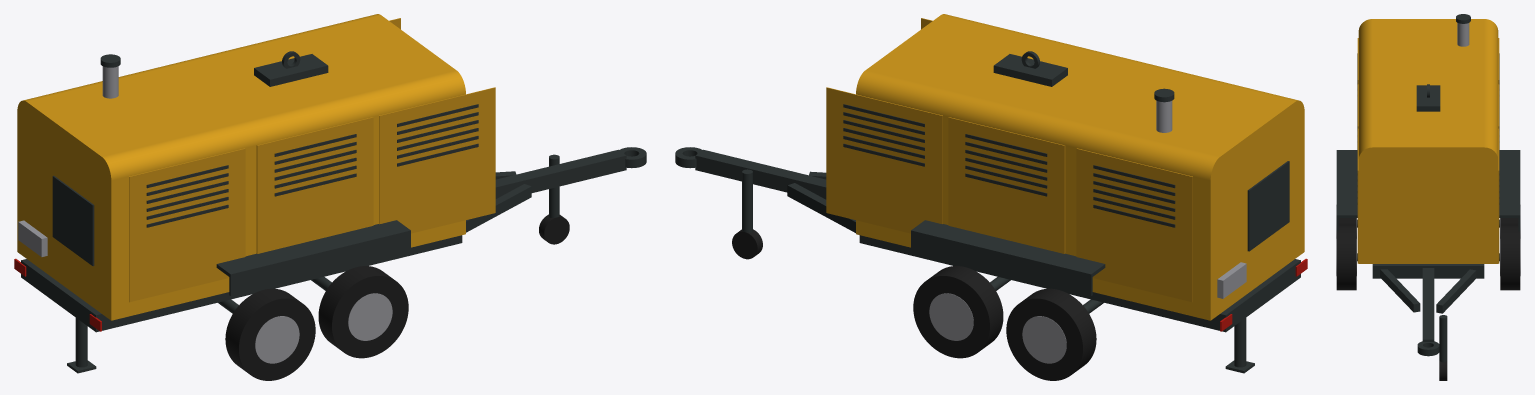
The model's file is Towable_Air_Compressor.glb.
3 views of the same model, side by side, from view 1: azimuth 30°, elevation 25°; view 2: azimuth 150°, elevation 25°; view 3: azimuth 270°, elevation 25° (orthographic). The views are drawn at different scales.
Parts seen in each view (by area): view 1: canopy_9ad2ca, door_-1800_-1_c5e167, door_350_-1_ef9e7f, canopy_e34bd9, door_-700_-1_3e2cd1, canopy_ecefa7, canopy, fender_side_-1_87e7a3, tyre_1_-1_74e7e3, tyre_0_-1_12d6b6, control_panel_ef3d35, fender_-1_4d3c1a (+14 smaller); view 2: canopy_9ad2ca, door_-1800_1_36dee7, door_350_1_d572ef, canopy_e34bd9, door_-700_1_5882df, canopy_47ccf6, canopy_f7cfbc, fender_side_1_9698cc, tyre_1_1_3bae42, tyre_0_1_a9bd93, fender_1_c6bed4, control_panel_ef3d35 (+15 smaller); view 3: canopy_adef05, canopy_9ad2ca, canopy_ecefa7, canopy_47ccf6, tyre_1_-1_d40cda, tyre_1_1_9904ce, fender_1_c6bed4, fender_-1_4d3c1a, chassis_497a60, drawbar_48082b, roof_lifting_frame_e8d679, jockey_post_de928b (+11 smaller).
Part boxes in pixels (x1=…): canopy_9ad2ca: x1=27, y1=15, x2=455, y2=156; door_-1800_-1_c5e167: x1=129, y1=148, x2=245, y2=302; door_350_-1_ef9e7f: x1=379, y1=87, x2=495, y2=233; canopy_e34bd9: x1=17, y1=100, x2=111, y2=320; door_-700_-1_3e2cd1: x1=257, y1=117, x2=373, y2=253; canopy_ecefa7: x1=102, y1=70, x2=465, y2=180; canopy: x1=111, y1=115, x2=465, y2=320; fender_side_-1_87e7a3: x1=230, y1=230, x2=410, y2=296; tyre_1_-1_74e7e3: x1=332, y1=276, x2=408, y2=358; tyre_0_-1_12d6b6: x1=239, y1=298, x2=315, y2=380; control_panel_ef3d35: x1=52, y1=176, x2=92, y2=265; fender_-1_4d3c1a: x1=217, y1=220, x2=410, y2=273; canopy_9ad2ca: x1=866, y1=15, x2=1294, y2=156; door_-1800_1_36dee7: x1=1076, y1=148, x2=1192, y2=302; door_350_1_d572ef: x1=826, y1=87, x2=942, y2=233; canopy_e34bd9: x1=1210, y1=100, x2=1304, y2=320; door_-700_1_5882df: x1=948, y1=117, x2=1064, y2=253; canopy_47ccf6: x1=856, y1=70, x2=1219, y2=180; canopy_f7cfbc: x1=856, y1=115, x2=1210, y2=320; fender_side_1_9698cc: x1=911, y1=230, x2=1091, y2=296; tyre_1_1_3bae42: x1=913, y1=276, x2=989, y2=358; tyre_0_1_a9bd93: x1=1006, y1=298, x2=1082, y2=380; fender_1_c6bed4: x1=912, y1=220, x2=1104, y2=273; control_panel_ef3d35: x1=1249, y1=161, x2=1289, y2=251; canopy_adef05: x1=1358, y1=147, x2=1498, y2=263; canopy_9ad2ca: x1=1372, y1=19, x2=1484, y2=147; canopy_ecefa7: x1=1358, y1=19, x2=1372, y2=158; canopy_47ccf6: x1=1484, y1=19, x2=1498, y2=158; tyre_1_-1_d40cda: x1=1336, y1=224, x2=1356, y2=290; tyre_1_1_9904ce: x1=1500, y1=224, x2=1520, y2=290; fender_1_c6bed4: x1=1499, y1=150, x2=1520, y2=215; fender_-1_4d3c1a: x1=1336, y1=150, x2=1357, y2=215; chassis_497a60: x1=1372, y1=266, x2=1484, y2=278; drawbar_48082b: x1=1422, y1=268, x2=1434, y2=339; roof_lifting_frame_e8d679: x1=1416, y1=85, x2=1440, y2=106; jockey_post_de928b: x1=1439, y1=317, x2=1447, y2=362.
Size of the model in its own units: 5.05 by 2.29 by 1.85.
